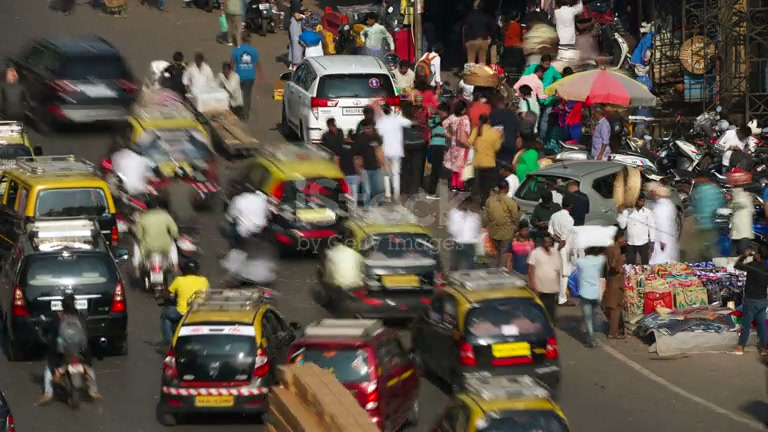car: (413, 266, 564, 397), (155, 289, 299, 426), (279, 318, 422, 431), (1, 244, 130, 360), (311, 214, 441, 325), (10, 34, 141, 133), (513, 159, 648, 249), (0, 156, 121, 252), (277, 53, 401, 145), (261, 362, 379, 432), (436, 372, 571, 431), (0, 389, 15, 430)
motorcycle: (265, 181, 345, 258), (51, 358, 98, 410), (142, 248, 174, 294)
pedestrian: (35, 291, 101, 407), (130, 196, 180, 291), (730, 241, 768, 355), (568, 243, 605, 347), (374, 101, 412, 201), (482, 181, 521, 278), (467, 113, 504, 204), (527, 232, 563, 323), (600, 230, 629, 340), (444, 193, 483, 270), (646, 182, 681, 265), (231, 31, 261, 122), (622, 194, 654, 266), (0, 65, 35, 123), (216, 61, 246, 120), (158, 51, 190, 98), (588, 105, 612, 161), (564, 180, 590, 226)
